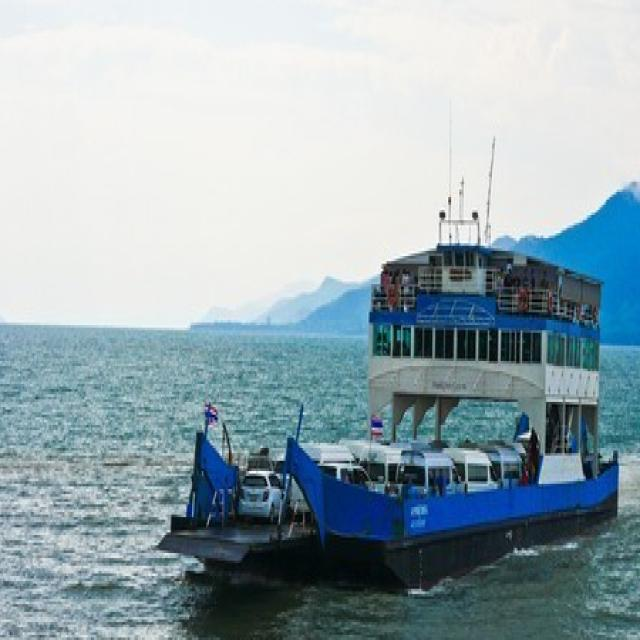cargoship: (167, 141, 603, 545)
